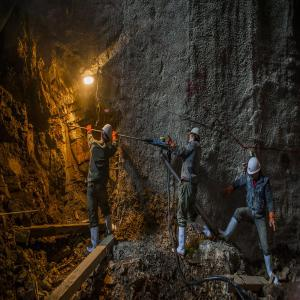white: (248, 158, 261, 181), (189, 127, 203, 146), (101, 124, 114, 143)
